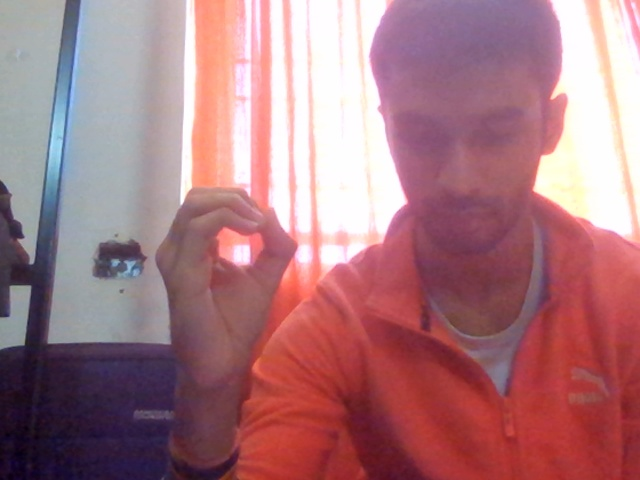O: (129, 148, 329, 418)
